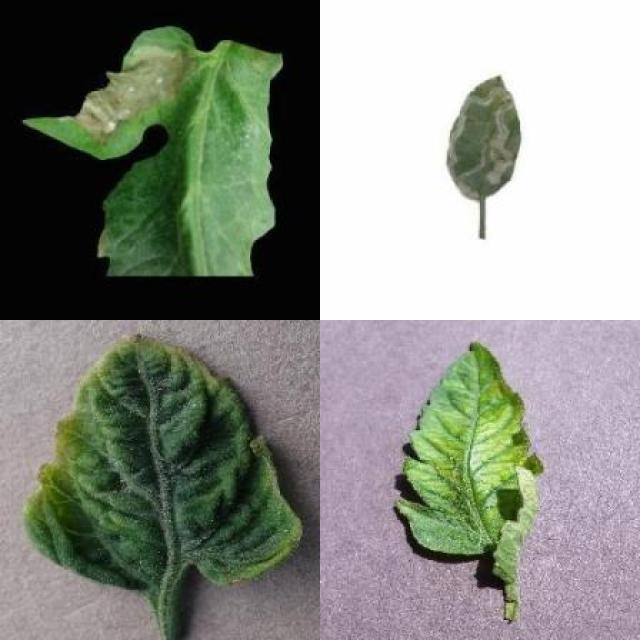Late Blight: (24, 25, 285, 278)
Leaf Miner: (448, 75, 522, 202)
Mosaic Virus: (396, 341, 544, 556)
Yellow Leaf Curl Virus: (24, 334, 304, 592)
